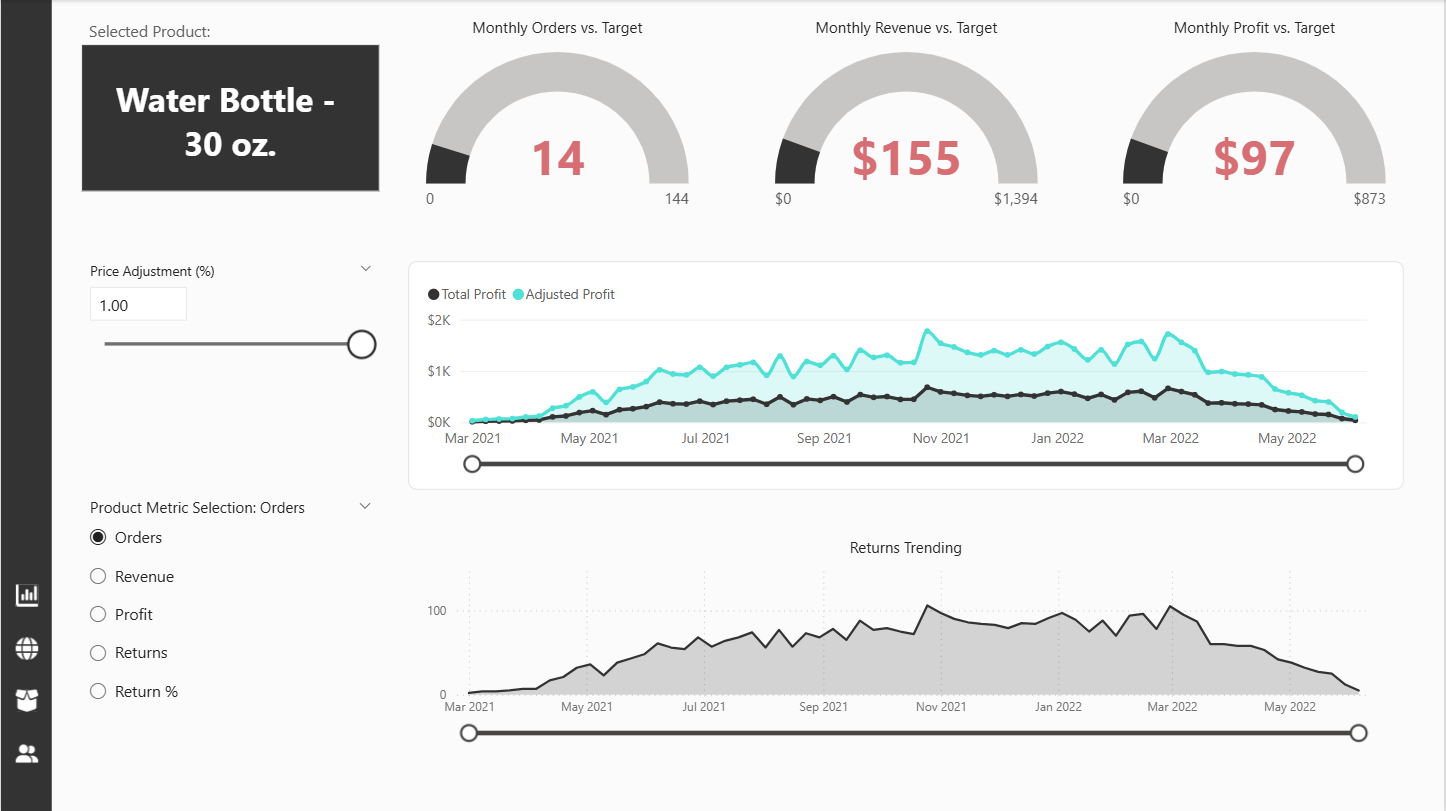

The dashboard page shown, as its layout file describes it:
{"tool":"powerbi","page":{"name":"Product Detail","canvas":[1280,720],"ordinal":2},"visuals":[{"type":"shape","title":"Left Nav Background","box":[0,0,45,720],"z":0},{"type":"gauge","title":"Monthly Orders vs. Target","fields":{"Y":["Measure Table.Total Orders"],"MaxValue":["Measure Table.Order Target"]},"box":[361,1,265,217],"z":1000},{"type":"actionButton","box":[0,508,45,39],"z":1000,"group":"g1"},{"type":"gauge","title":"Monthly Profit vs. Target","fields":{"Y":["Measure Table.Total Profit"],"MaxValue":["Measure Table.Profit Target"]},"box":[979,1,265,217],"z":2000},{"type":"actionButton","box":[0,554.7,45,39],"z":2000,"group":"g1"},{"type":"gauge","title":"Monthly Revenue vs. Target","fields":{"Y":["Measure Table.Total Revenue"],"MaxValue":["Measure Table.Revenue Target"]},"box":[670,1,265,217],"z":3000},{"type":"actionButton","box":[0,601,45,39],"z":3000,"group":"g1"},{"type":"lineChart","title":"Profit Trending ","fields":{"Category":["Calendar Lookup.Date Hierarchy.Start of Year","Calendar Lookup.Date Hierarchy.Start of Month","Calendar Lookup.Date Hierarchy.Start of Week","Calendar Lookup.Date Hierarchy.Date"],"Y":["Measure Table.Total Profit","Measure Table.Adjusted Profit"]},"box":[361,231,883,203],"z":4000},{"type":"actionButton","box":[0,648,45,39],"z":4000,"group":"g1"},{"type":"areaChart","title":"Returns Trending","fields":{"Y":["Measure Table.Total Orders"],"Category":["Calendar Lookup.Date Hierarchy.Start of Year","Calendar Lookup.Date Hierarchy.Start of Month","Calendar Lookup.Date Hierarchy.Start of Week","Calendar Lookup.Date Hierarchy.Date"]},"box":[361,462,883,210],"z":5000},{"type":"card","fields":{"Values":["Min(Product Lookup.ProductName)"]},"box":[71,39,265,131],"z":6000},{"type":"textbox","box":[78,18,117,21],"z":7000},{"type":"group","id":"g1","title":"Navigation Buttons","box":[0,508,45,179],"z":8000},{"type":"slicer","fields":{"Values":["Price Adjustment (%).Price Adjustment (%)"]},"box":[71,231,265,138],"z":9000},{"type":"slicer","fields":{"Values":["Product Metric Selection.Product Metric Selection"]},"box":[71,441,265,207],"z":10000}]}

Visuals, with their boxes on the page's 1280x720 design canvas (x1, y1, x2, y2). These are canvas units, not pixel positions in the 1446x811 screenshot, which may show the page scaled, cropped or inside an application window:
"Left Nav Background" shape: x1=0 y1=0 x2=45 y2=720
"Monthly Orders vs. Target" gauge: x1=361 y1=1 x2=626 y2=218
actionButton: x1=0 y1=508 x2=45 y2=547
"Monthly Profit vs. Target" gauge: x1=979 y1=1 x2=1244 y2=218
actionButton: x1=0 y1=555 x2=45 y2=594
"Monthly Revenue vs. Target" gauge: x1=670 y1=1 x2=935 y2=218
actionButton: x1=0 y1=601 x2=45 y2=640
"Profit Trending " lineChart: x1=361 y1=231 x2=1244 y2=434
actionButton: x1=0 y1=648 x2=45 y2=687
"Returns Trending" areaChart: x1=361 y1=462 x2=1244 y2=672
card - Min(Product Lookup.ProductName): x1=71 y1=39 x2=336 y2=170
textbox: x1=78 y1=18 x2=195 y2=39
"Navigation Buttons" group: x1=0 y1=508 x2=45 y2=687
slicer - Price Adjustment (%).Price Adjustment (%): x1=71 y1=231 x2=336 y2=369
slicer - Product Metric Selection.Product Metric Selection: x1=71 y1=441 x2=336 y2=648
